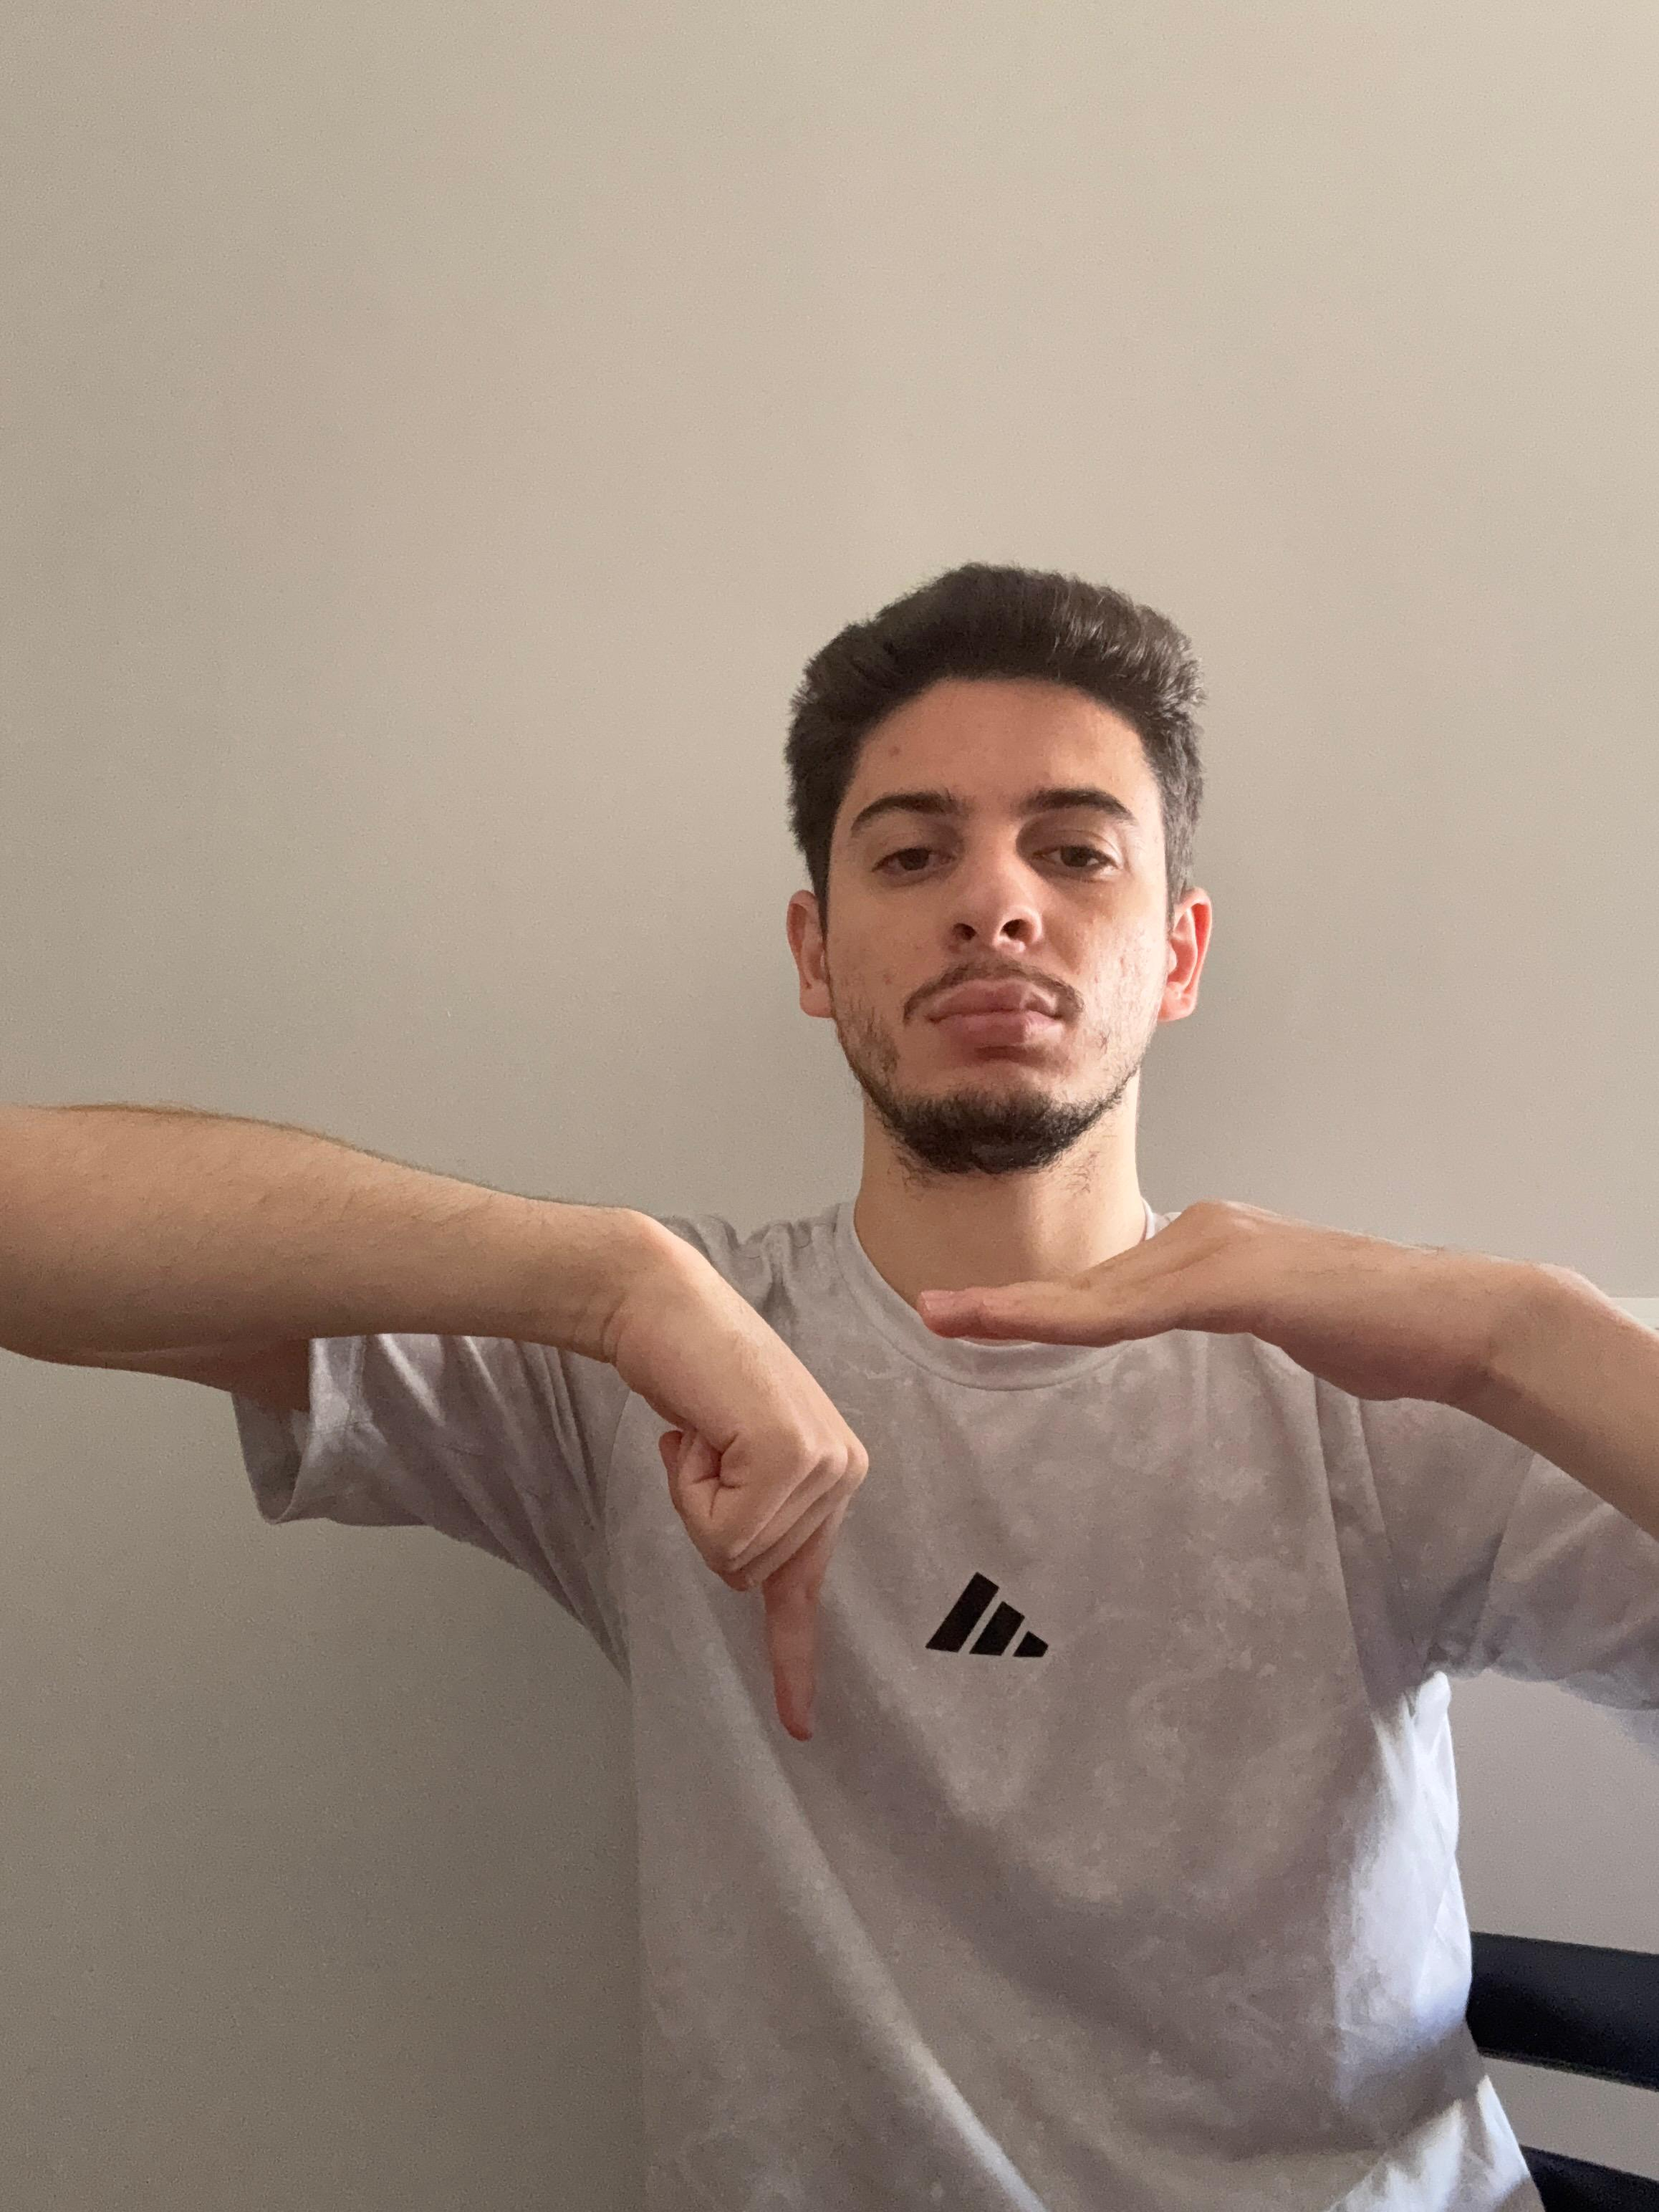deep: (9, 554, 1652, 2200)
